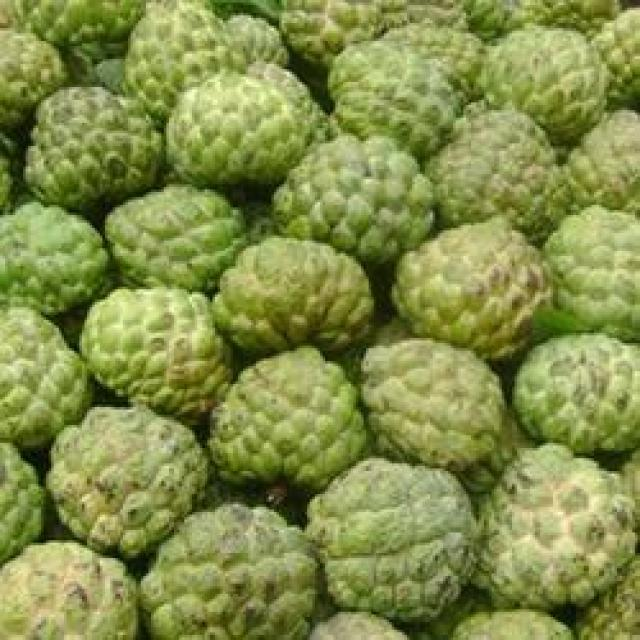apple: (305, 466, 489, 619), (74, 282, 238, 419), (387, 225, 550, 361), (164, 72, 333, 195)
